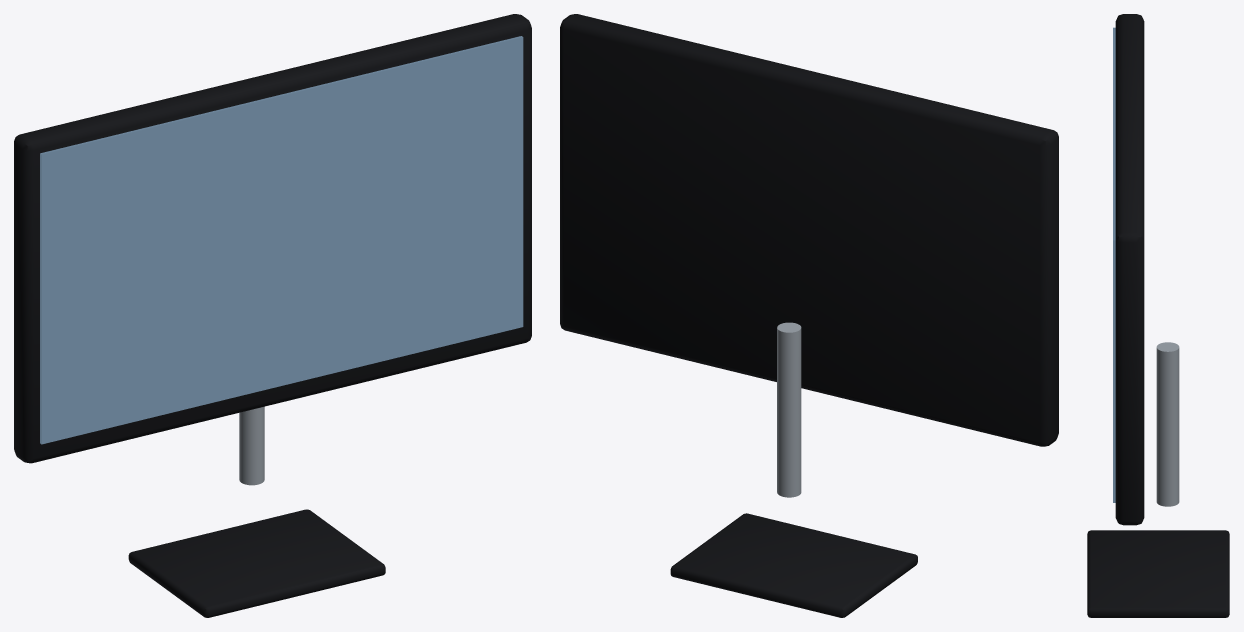
File: lcd.glb
3 views of the same model, side by side, from view 1: azimuth 30°, elevation 25°; view 2: azimuth 150°, elevation 25°; view 3: azimuth 270°, elevation 25° (orthographic). The views are drawn at different scales.
Visible parts, largest first — view 1: screen, lcd; view 2: lcd; view 3: lcd, screen.
Boxes of the visible parts, x1,y1,x2,y2 form: screen: (40, 36, 523, 444); lcd: (14, 14, 531, 617); lcd: (560, 14, 1058, 617); lcd: (1087, 14, 1229, 617); screen: (1113, 27, 1115, 502).
Size of the model in its own units: 0.56 by 0.53 by 0.15.
